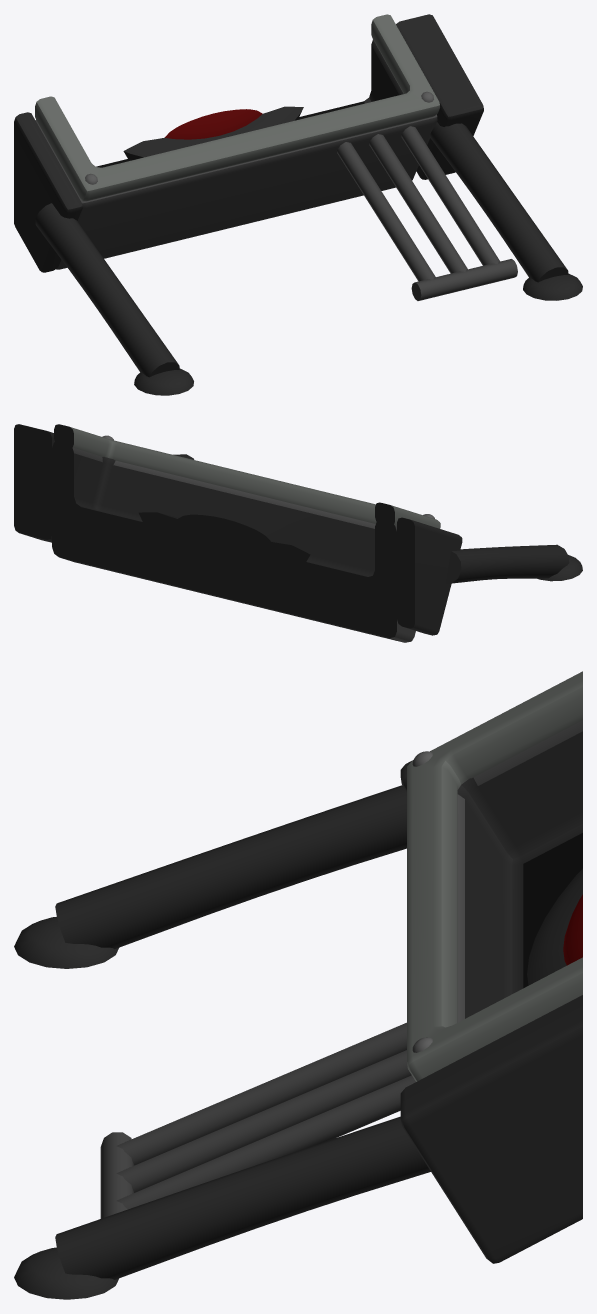
File: cliff_bunker_base_195.glb
3 renders of one model, top to bottom at view 1: azimuth 30°, elevation 25°; view 2: azimuth 150°, elevation 25°; view 3: azimuth 270°, elevation 25°, orthographic. The views are drawn at different scales.
Parts seen in each view (by area): view 1: box.001, frame.001, leg0.001, leg1.001, bracket0.001, bracket1.001, grille_bar0.001, grille_bar1.001, grille_bar2.001, grille_rail2.001, eye_socket.001, eye.001 (+2 smaller); view 2: box.001, frame.001, bracket0.001, bracket1.001, leg0.001, eye.001, eye_socket.001, leg_pad0.001; view 3: bracket1.001, frame.001, box.001, leg1.001, leg0.001, grille_bar1.001, grille_bar0.001, grille_bar2.001, leg_pad1.001, leg_pad0.001, eye_socket.001, grille_rail2.001 (+1 smaller).
Part boxes in pixels (box(x1,y1,x2,y2)): box.001: box(35, 40, 437, 269); frame.001: box(35, 14, 439, 201); leg0.001: box(35, 203, 179, 377); leg1.001: box(430, 122, 568, 282); bracket0.001: box(14, 112, 82, 272); bracket1.001: box(396, 14, 483, 179); grille_bar0.001: box(336, 142, 435, 281); grille_bar1.001: box(369, 134, 467, 273); grille_bar2.001: box(401, 126, 499, 265); grille_rail2.001: box(411, 259, 517, 300); eye_socket.001: box(123, 106, 303, 159); eye.001: box(165, 109, 262, 139); box.001: box(52, 441, 415, 642); frame.001: box(54, 424, 440, 528); bracket0.001: box(397, 517, 462, 635); bracket1.001: box(14, 424, 54, 542); leg0.001: box(445, 544, 569, 583); eye.001: box(176, 514, 272, 551); eye_socket.001: box(139, 512, 310, 562); leg_pad0.001: box(537, 555, 582, 581); bracket1.001: box(400, 995, 582, 1263); frame.001: box(407, 671, 582, 1081); box.001: box(457, 720, 582, 1022); leg1.001: box(55, 1116, 430, 1279); leg0.001: box(55, 785, 406, 949); grille_bar1.001: box(116, 1050, 411, 1192); grille_bar0.001: box(116, 1022, 406, 1165); grille_bar2.001: box(116, 1075, 415, 1209); leg_pad1.001: box(14, 1247, 118, 1299); leg_pad0.001: box(14, 917, 118, 968); eye_socket.001: box(527, 868, 582, 985); grille_rail2.001: box(100, 1132, 134, 1218).
Size of the model in its own units: 21.15 by 7.72 by 13.45.
